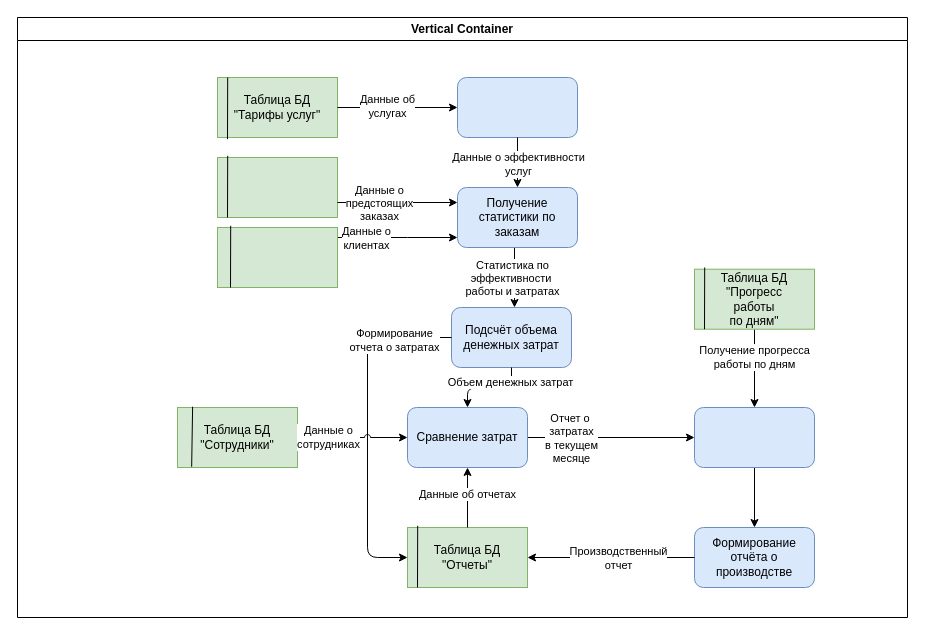
Some shapes in this 925 by 635 pixel diagram are drawn without their labels. The shapes that lost their labels are listed below. From the top down, each one's centre as x and y in pixels, then its label:
(517,107): Получение данных об услугах
(277,187): Таблица БД "Данные о заказах"
(277,257): Таблица БД "Данные о клиентах"
(754,437): Анализ результатов с использованием аналитически инструментов
